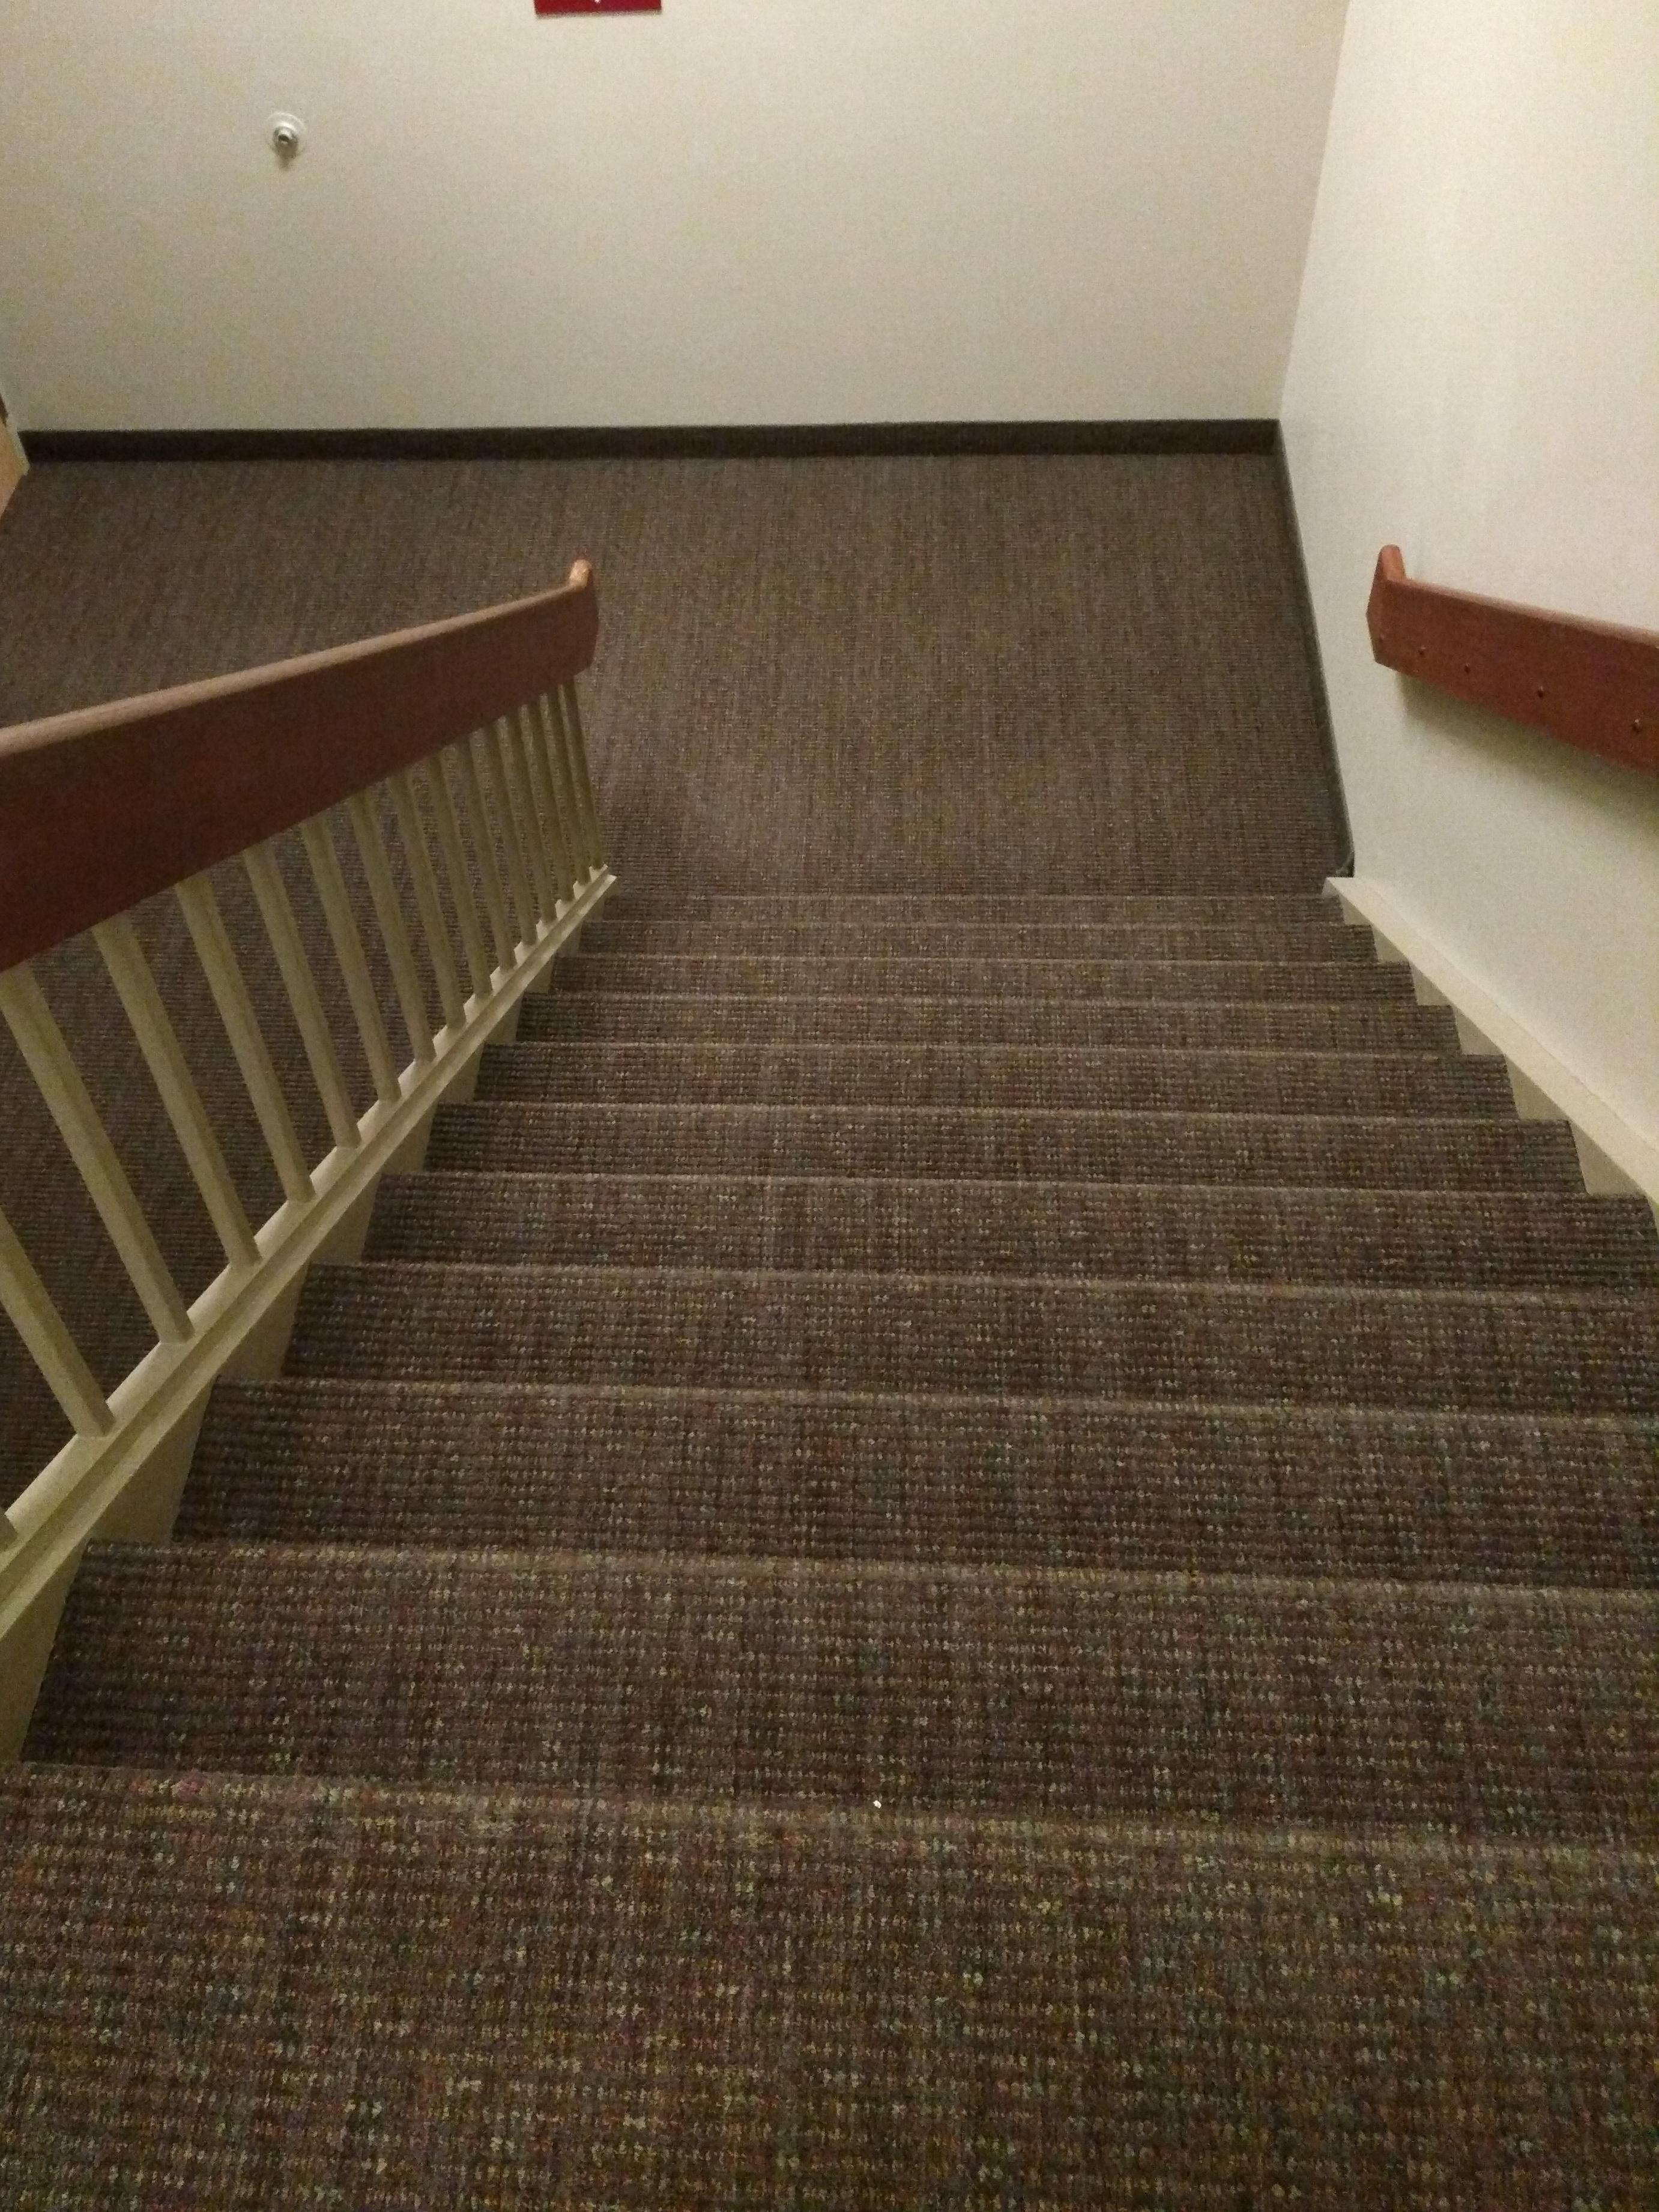stairs_down: (0, 833, 1659, 1998)
